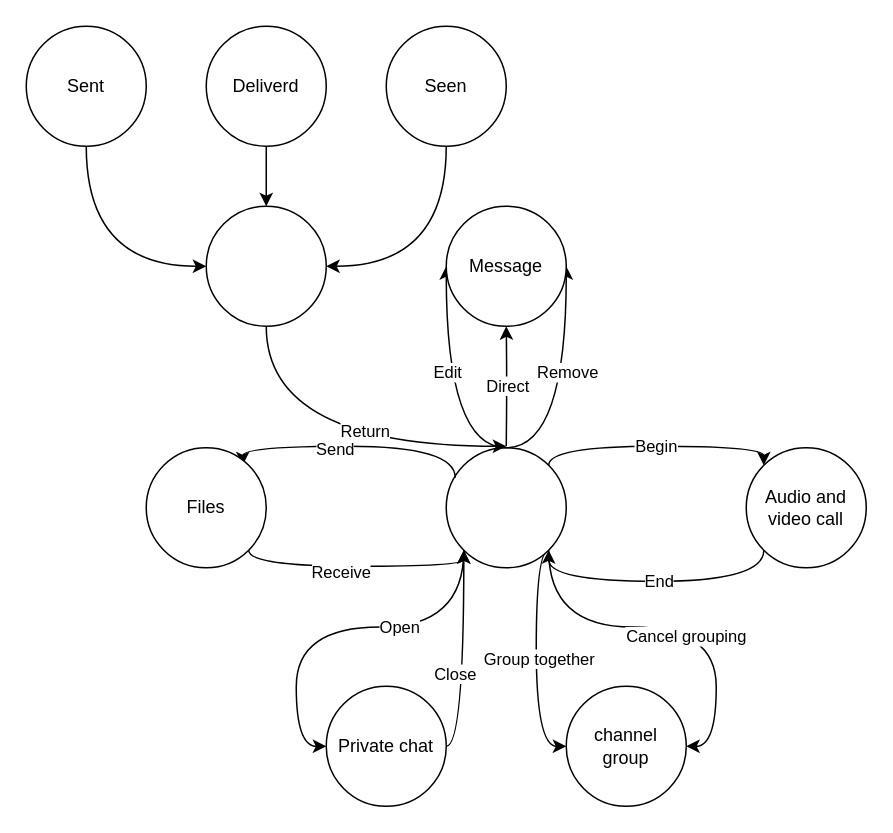
This 893x833 diagram has some shape labels left out. The shapes that lost their labels are listed below. From the top down, each one's centre as x and y in pixels, then its label:
At point 265,265: "Message Status".
At point 505,507: "channel".
